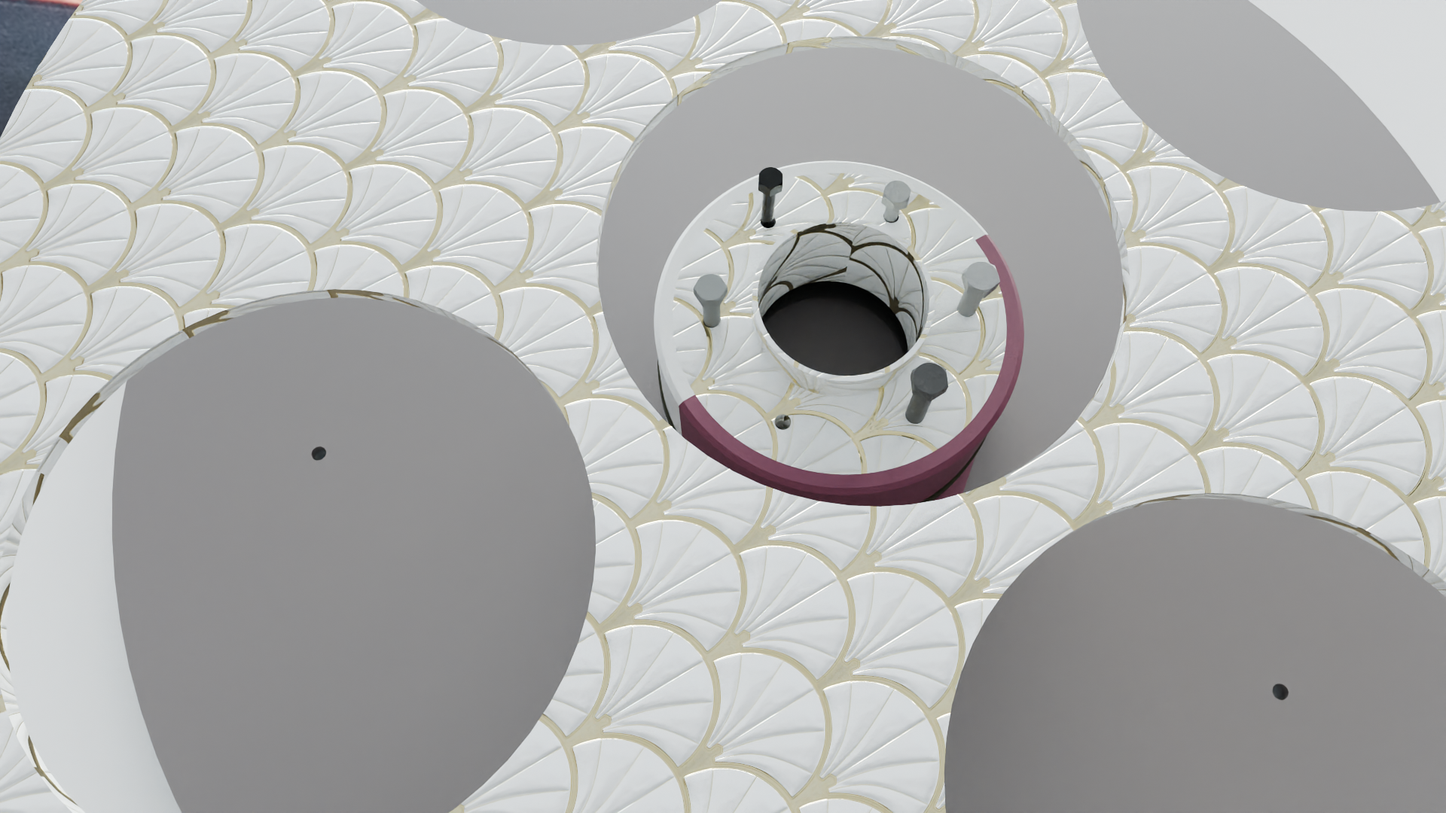bolt: (912, 361, 948, 396), (964, 260, 1000, 292), (694, 274, 728, 301), (883, 181, 911, 206), (758, 167, 783, 190)
